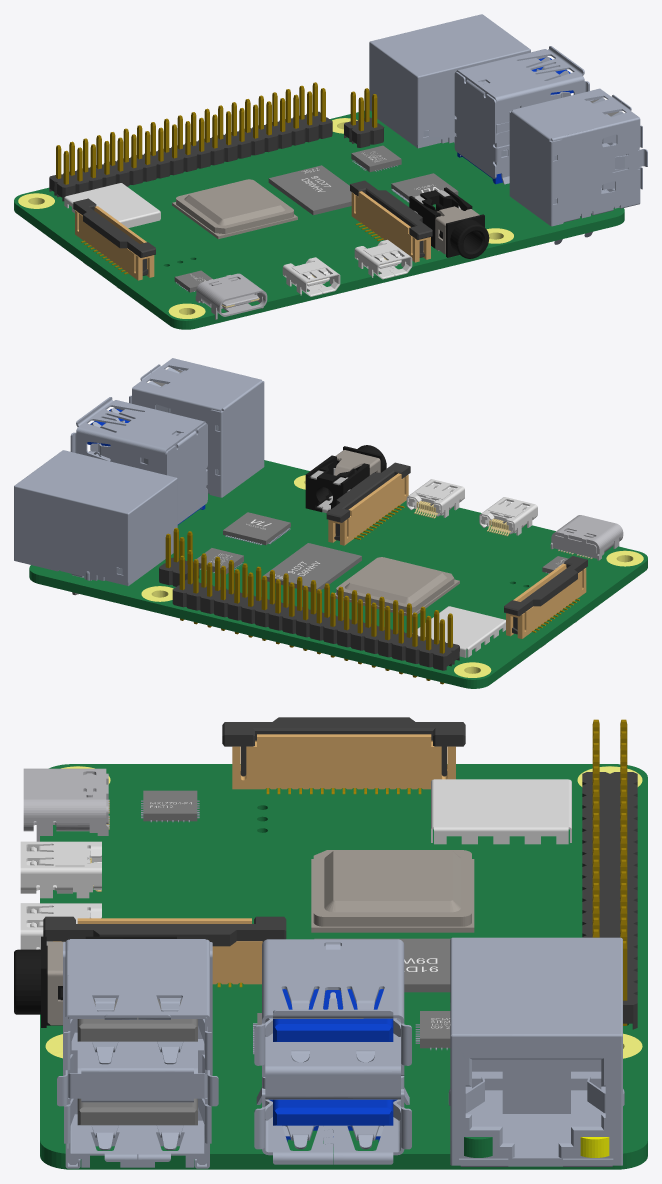
Rendered from raspberry-pi-4b.glb.
3 views of the same model, one above another, from view 1: azimuth 30°, elevation 25°; view 2: azimuth 150°, elevation 25°; view 3: azimuth 270°, elevation 25° (orthographic). The views are drawn at different scales.
Parts seen in each view (by area): view 1: raspberry-pi-4b; view 2: raspberry-pi-4b; view 3: raspberry-pi-4b.
Part boxes in pixels (left/top/right/bottom): raspberry-pi-4b: left=14, top=14, right=647, bottom=329; raspberry-pi-4b: left=14, top=358, right=647, bottom=688; raspberry-pi-4b: left=14, top=717, right=647, bottom=1169.
Bounding box in the file's own units: 88.99 × 19.9 × 58.4.
